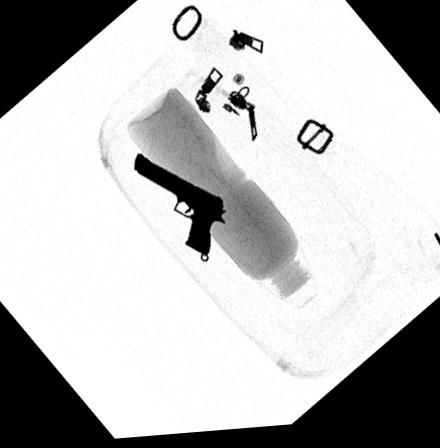Gun: (133, 153, 227, 259)
